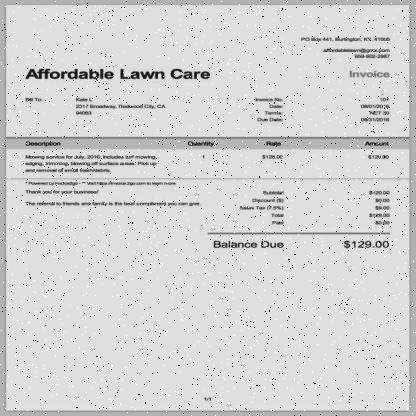Paragraph: (238, 188, 392, 226), (23, 180, 203, 208), (254, 96, 392, 124), (23, 95, 166, 117), (23, 67, 212, 81), (299, 36, 392, 60), (212, 238, 391, 250), (347, 69, 391, 79), (202, 397, 212, 402)
Table: (6, 136, 410, 178)
